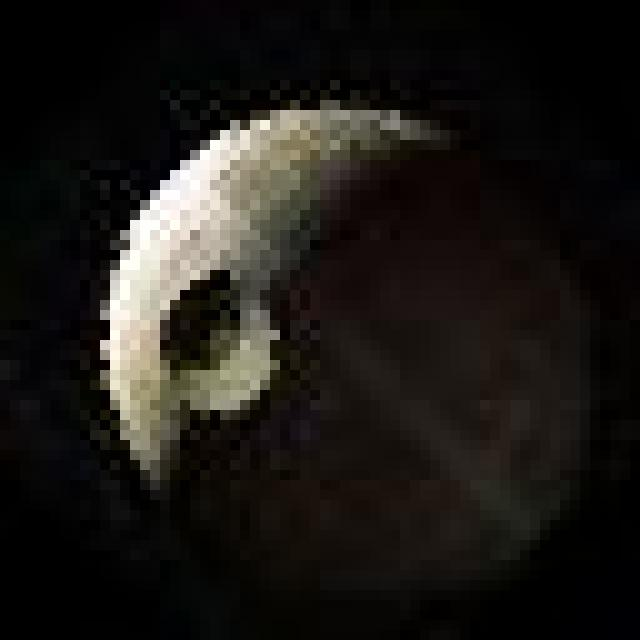Death Star: (94, 106, 613, 607)
